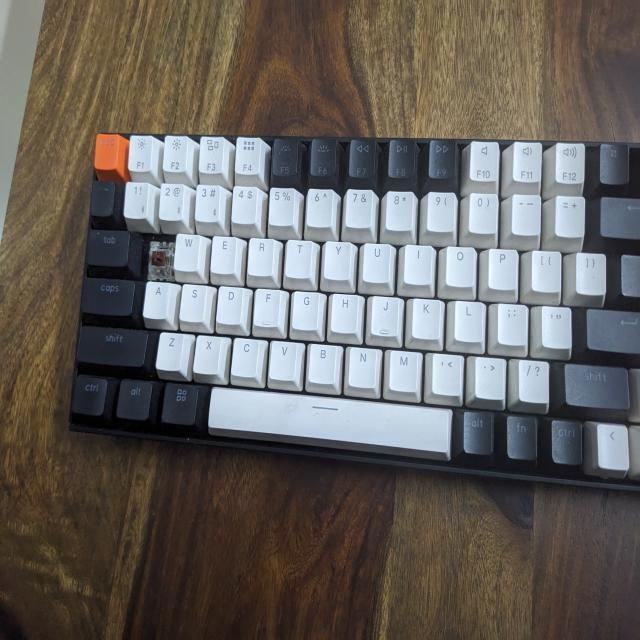key-switch: (145, 237, 172, 278)
